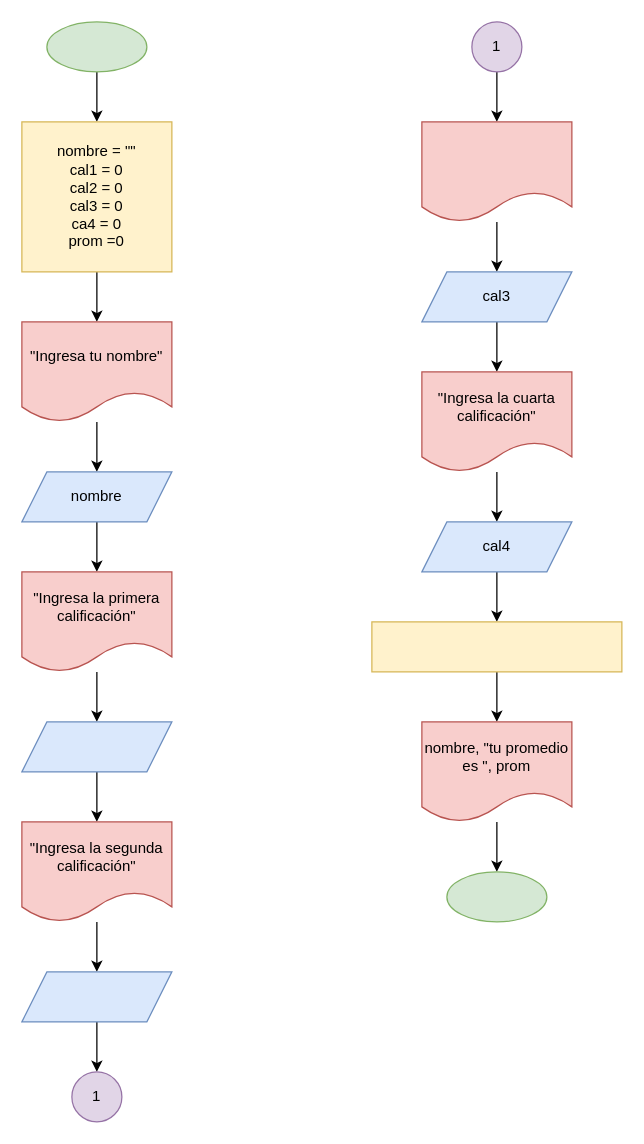
Some shapes in this 644 by 1144 pixel diagram are drawn without their labels. The shapes that lost their labels are listed below. From the top down, each one's box as (x1, y1, x2, y2) in pixels, then its label:
(46, 21, 147, 72): INICIO
(421, 121, 572, 222): "Ingresa la tercera calificación"
(371, 621, 622, 672): prom = (cal1+cal2+cal3+cal4)/4
(21, 721, 172, 772): cal1
(446, 871, 547, 922): FIN
(21, 971, 172, 1022): cal2
